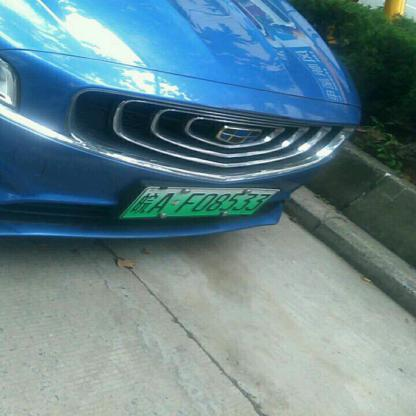lp: (121, 186, 278, 218)
